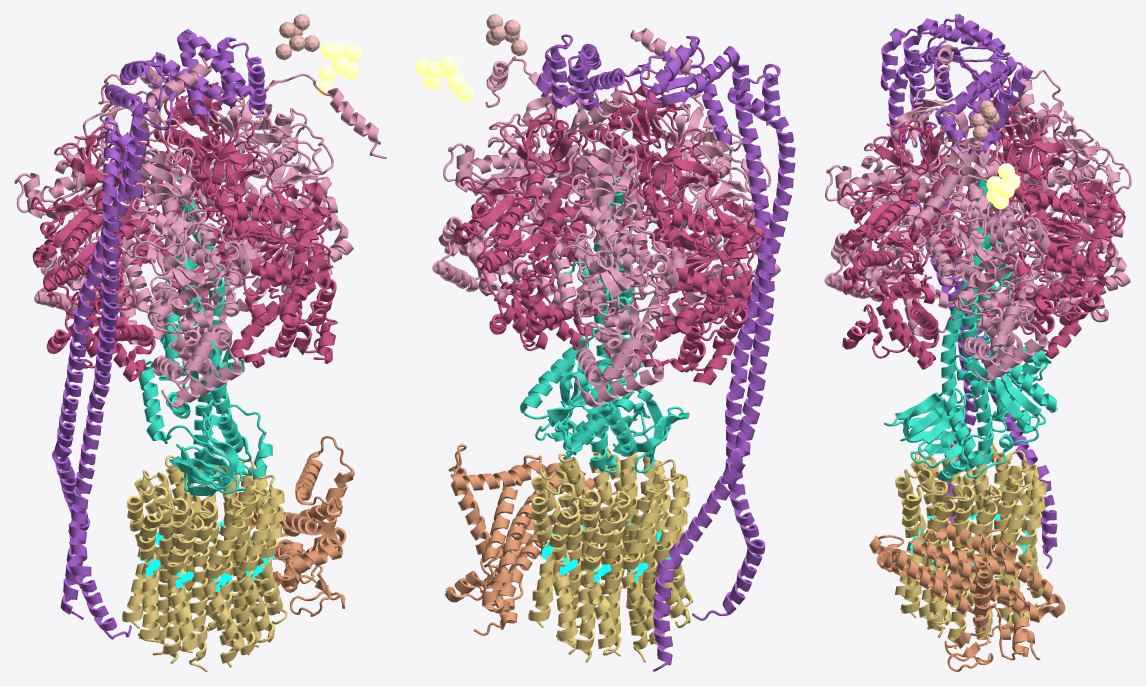
Rendered from 6RKW_assembled_pieces.glb.
The picture shows the model from 3 angles, left to right: view 1: azimuth 30°, elevation 25°; view 2: azimuth 150°, elevation 25°; view 3: azimuth 270°, elevation 25°; orthographic projection. The views are drawn at different scales.
Parts seen in each view (by area): view 1: Piece_ATP_F1_Alpha, Piece_ATP_F1_Beta, Piece_ATP_Fo_C_Ring, Piece_ATP_Peripheral_Stalk, Piece_ATP_Central_Rotor, Piece_ATP_Fo_A_Subunit, Piece_ATP_Product, Piece_ADP_Pi_Substrates, Piece_ATP_Asp61_Sites; view 2: Piece_ATP_F1_Alpha, Piece_ATP_F1_Beta, Piece_ATP_Peripheral_Stalk, Piece_ATP_Fo_C_Ring, Piece_ATP_Central_Rotor, Piece_ATP_Fo_A_Subunit, Piece_ATP_Product, Piece_ADP_Pi_Substrates, Piece_ATP_Asp61_Sites; view 3: Piece_ATP_F1_Alpha, Piece_ATP_F1_Beta, Piece_ATP_Fo_C_Ring, Piece_ATP_Peripheral_Stalk, Piece_ATP_Central_Rotor, Piece_ATP_Fo_A_Subunit, Piece_ATP_Product, Piece_ADP_Pi_Substrates.
Part boxes in pixels (x1,y1,x2,y2): Piece_ATP_F1_Alpha: (14,57,386,407); Piece_ATP_F1_Beta: (31,73,337,381); Piece_ATP_Fo_C_Ring: (121,453,287,671); Piece_ATP_Peripheral_Stalk: (52,28,266,639); Piece_ATP_Central_Rotor: (135,165,272,497); Piece_ATP_Fo_A_Subunit: (251,436,354,616); Piece_ATP_Product: (316,42,361,96); Piece_ADP_Pi_Substrates: (275,14,319,60); Piece_ATP_Asp61_Sites: (139,521,274,592); Piece_ATP_F1_Alpha: (432,28,780,407); Piece_ATP_F1_Beta: (453,71,765,385); Piece_ATP_Peripheral_Stalk: (536,34,795,671); Piece_ATP_Fo_C_Ring: (528,447,692,662); Piece_ATP_Central_Rotor: (520,164,689,473); Piece_ATP_Fo_A_Subunit: (444,444,620,635); Piece_ATP_Product: (415,55,473,102); Piece_ADP_Pi_Substrates: (485,14,527,56); Piece_ATP_Asp61_Sites: (541,522,673,582); Piece_ATP_F1_Alpha: (824,44,1131,382); Piece_ATP_F1_Beta: (840,78,1125,369); Piece_ATP_Fo_C_Ring: (894,442,1048,649); Piece_ATP_Peripheral_Stalk: (880,14,1057,568); Piece_ATP_Central_Rotor: (884,157,1057,481); Piece_ATP_Fo_A_Subunit: (869,523,1065,671); Piece_ATP_Product: (986,163,1020,208); Piece_ADP_Pi_Substrates: (969,100,999,140).
Bounding box in the file's own units: 12.27 × 22.26 × 10.68.
